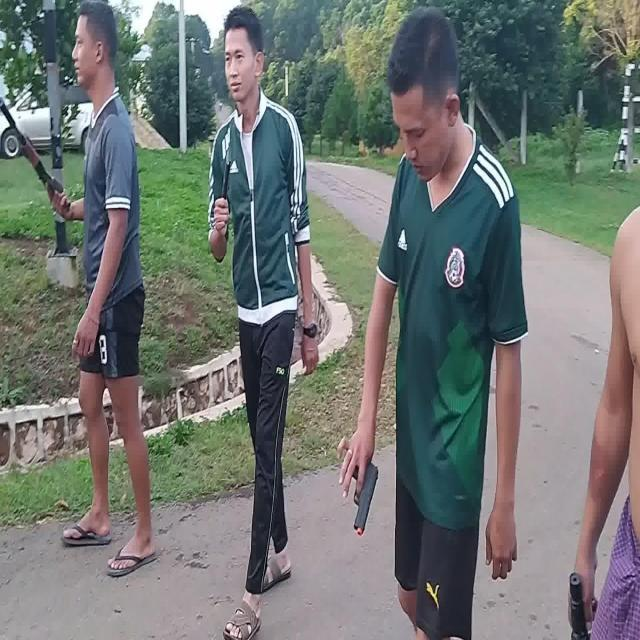gun: (1, 105, 71, 212), (354, 462, 378, 530)
